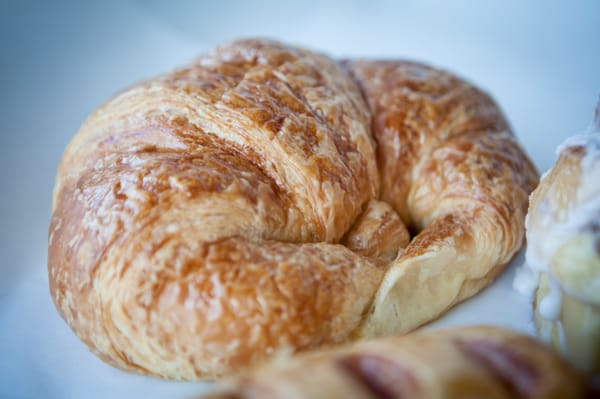salad: (55, 39, 537, 386)
